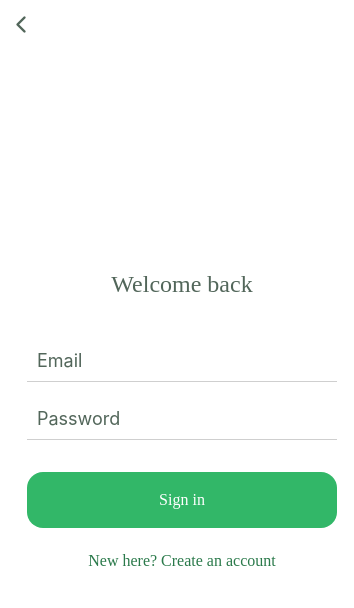
Auth › shows the network message when the API is unreachable
Type "ana@example.com" into the field labelled "Email" at (182, 361), box [27,340,337,382]
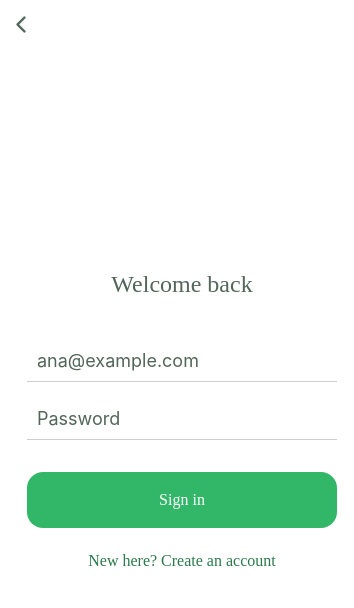
Type "secret123" into the password field labelled "Password" at (182, 419), box [27,398,337,440]
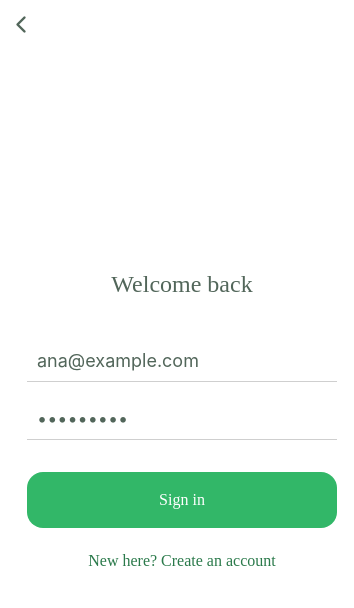
Click the button "Sign in" at (182, 500), box [27,472,337,528]
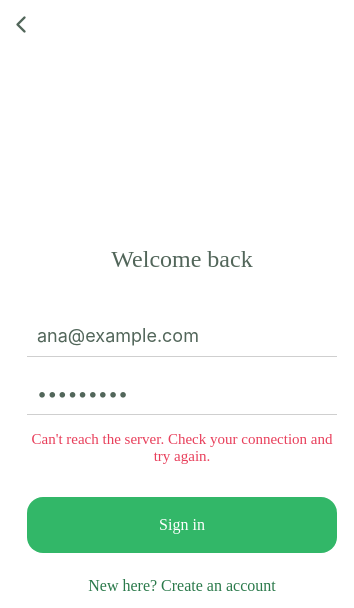
expect the text "Can't reach the server. Check your connection and try again." is shown: met, box [27,431,337,465]
